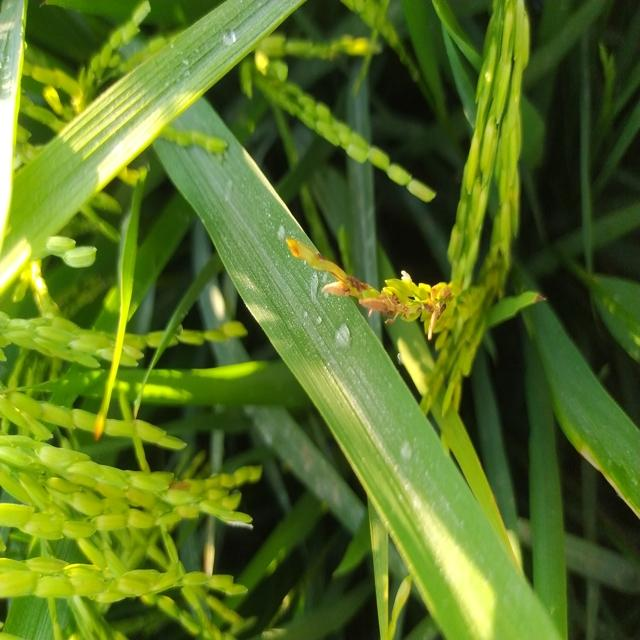Brown spot: (84, 412, 119, 450)
